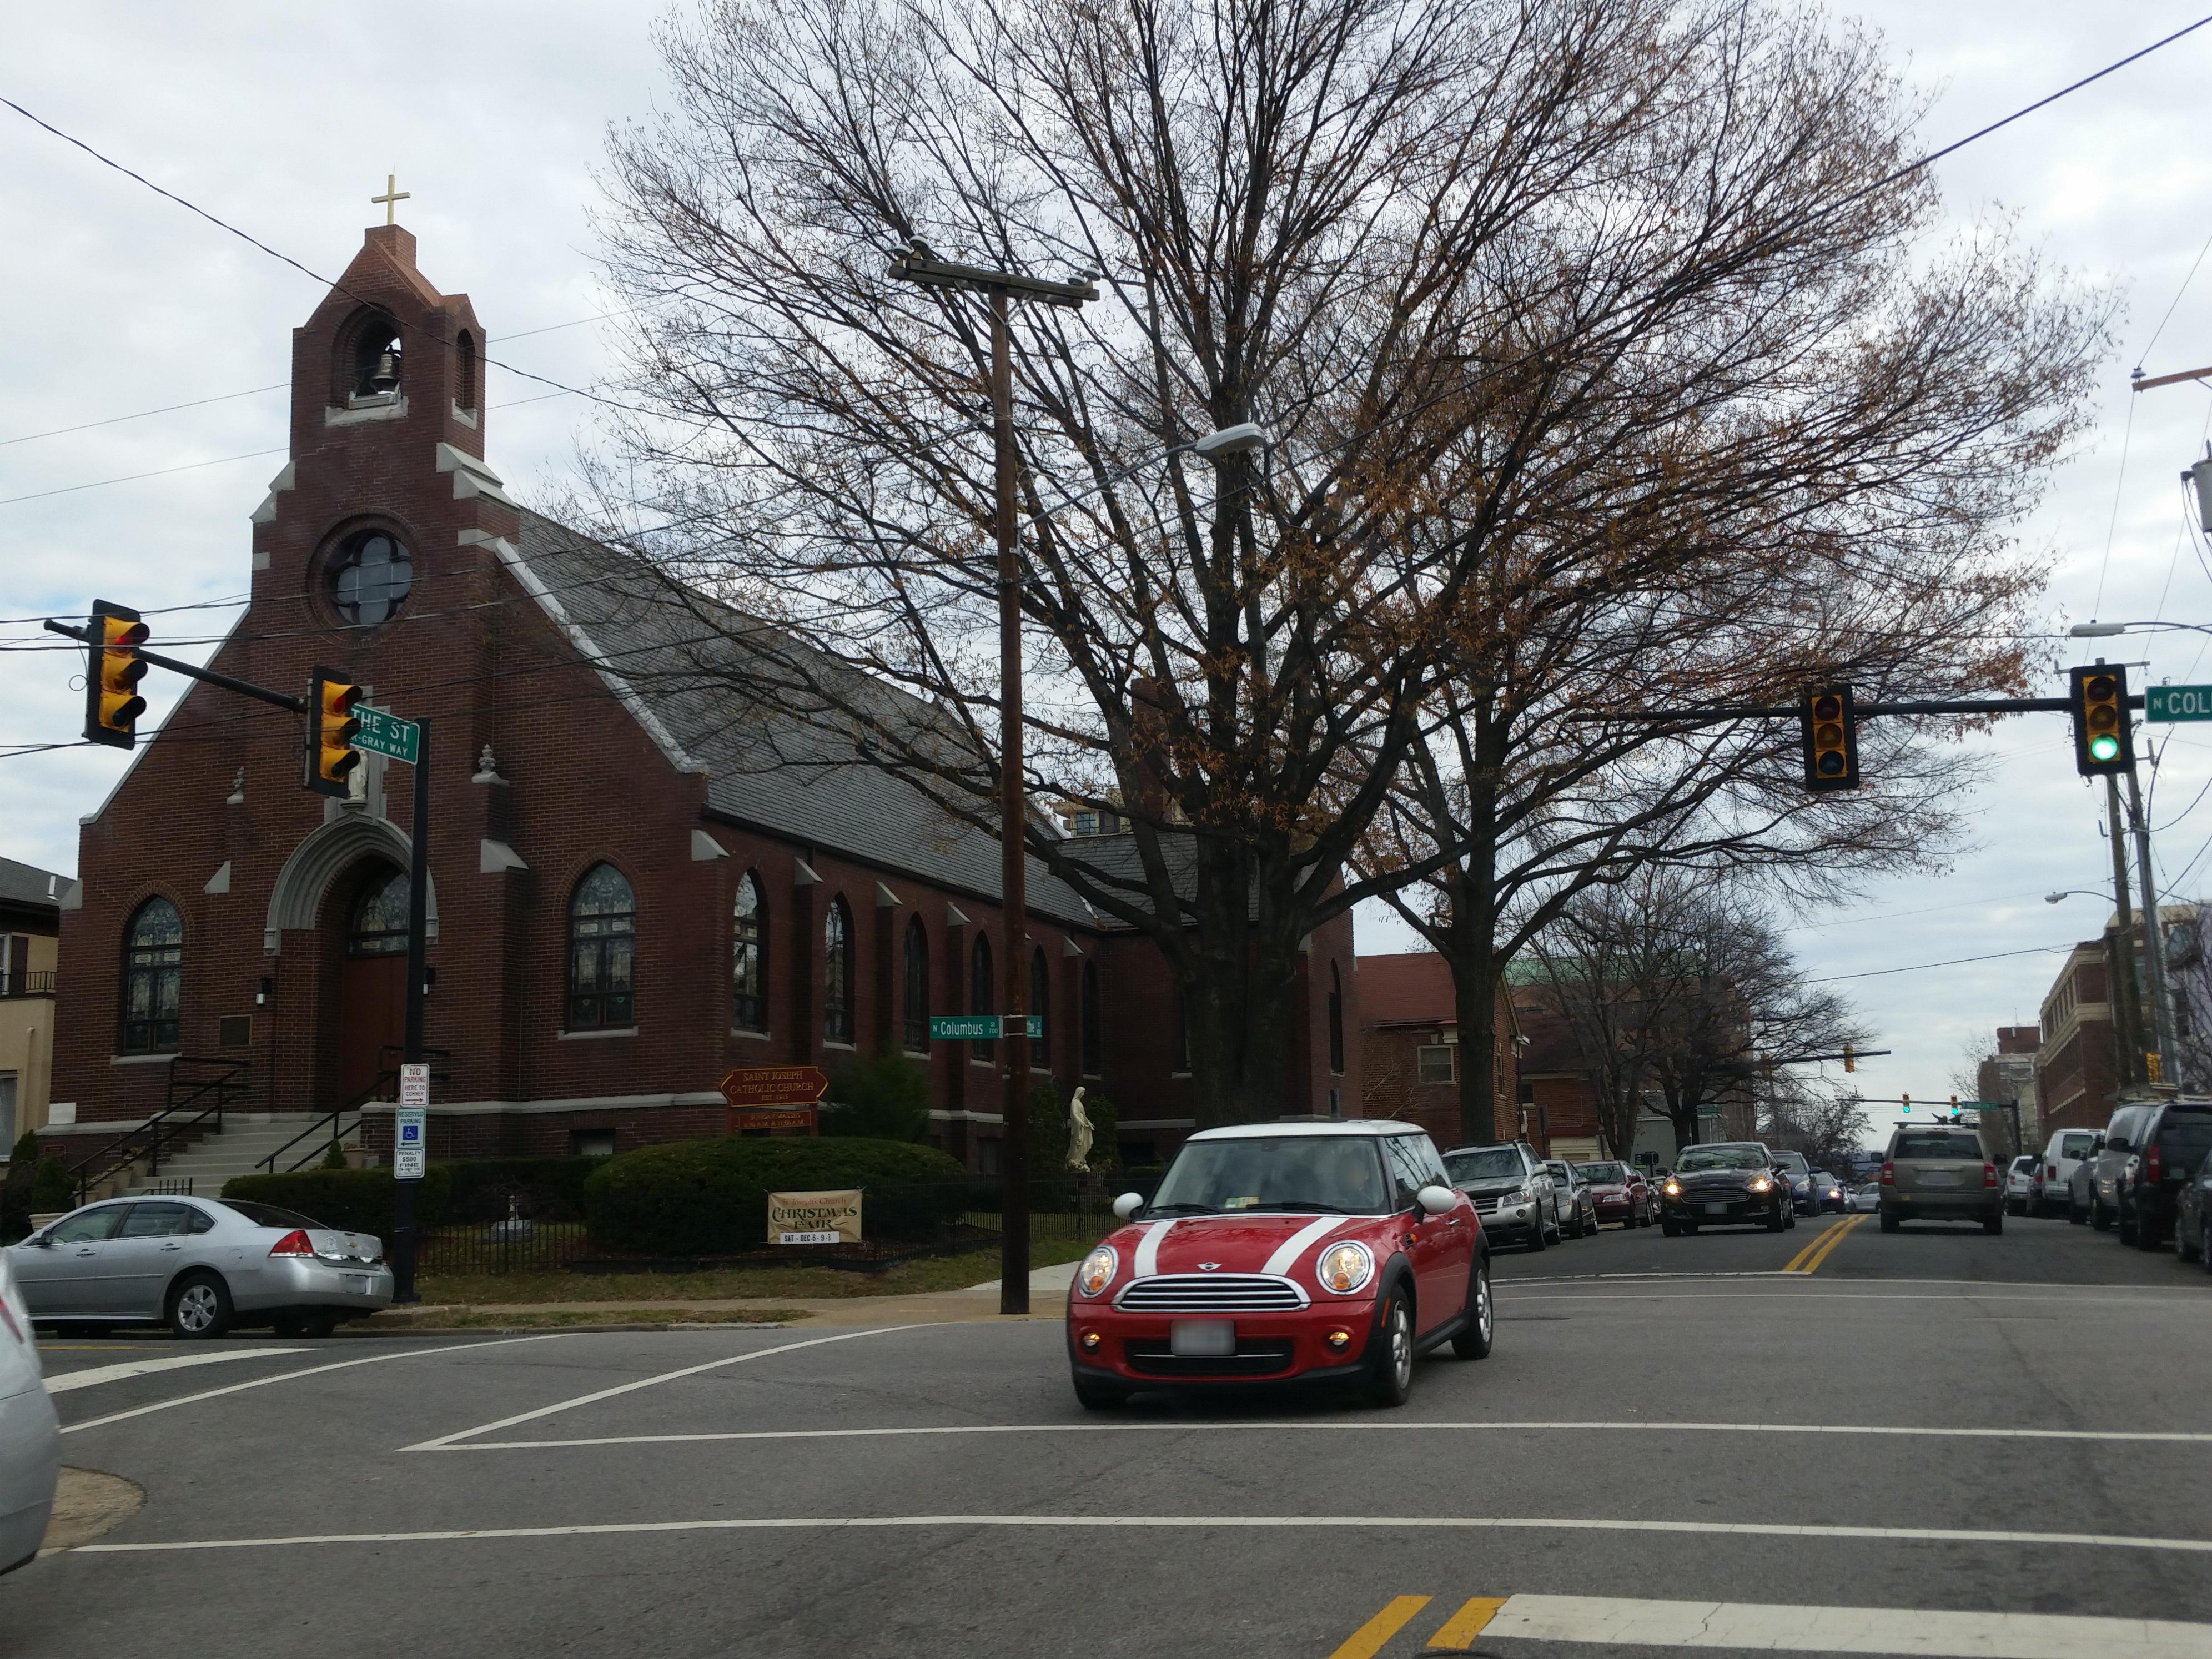vinyl banner: (747, 1168, 871, 1258)
